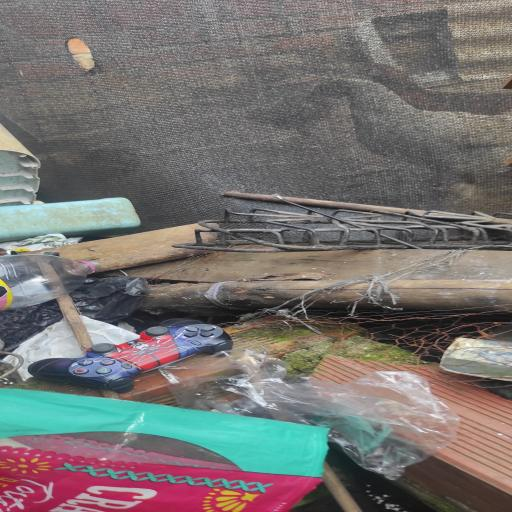ControlPlay4: (28, 320, 232, 392)
